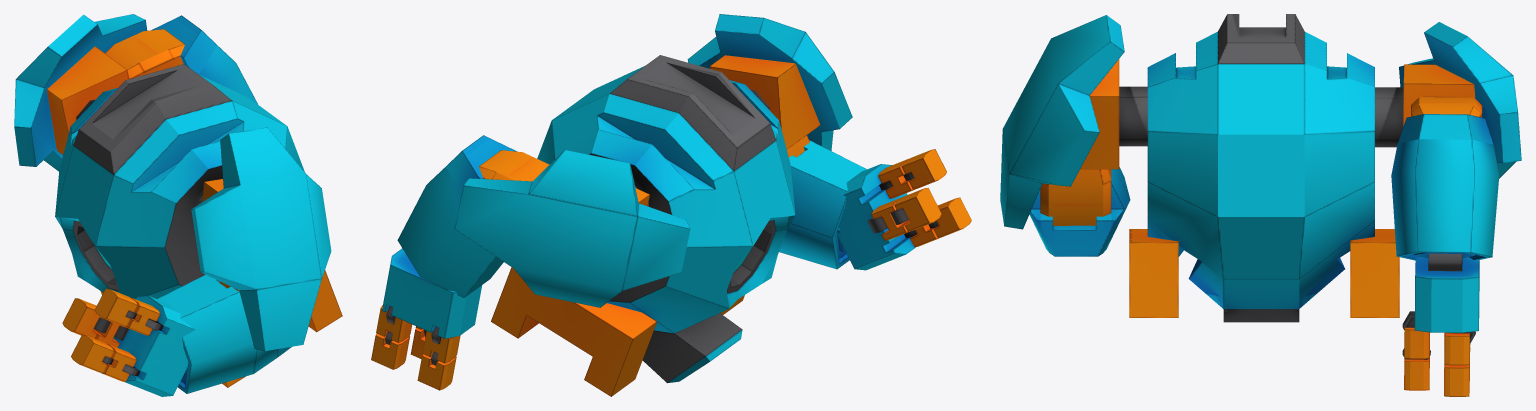
Rendered from Body_Running37.obj.
The picture shows the model from 3 angles, left to right: view 1: azimuth 30°, elevation 25°; view 2: azimuth 150°, elevation 25°; view 3: azimuth 270°, elevation 25°; orthographic projection. The views are drawn at different scales.
Visible parts, largest first — view 1: Plane001, Object006, Object002, Object008, Object007, Object003; view 2: Plane001, Object002, Object006, Object008, Object004, Object003, Object007; view 3: Plane001, Object006, Object003, Object002, Object004, Object007, Object005, Object001.
Boxes of the visible parts, x1,y1,x2,y2 form: Plane001: (55,64,342,387); Object006: (191,127,331,350); Object002: (14,14,184,171); Object008: (62,288,195,396); Object007: (157,274,291,393); Object003: (151,15,257,104); Plane001: (491,55,795,396); Object002: (454,149,690,307); Object006: (687,14,852,157); Object008: (837,149,971,270); Object004: (371,248,482,390); Object003: (397,135,516,297); Object007: (779,140,866,269); Plane001: (1129,14,1399,322); Object006: (1000,15,1124,229); Object003: (1391,114,1499,260); Object002: (1399,22,1521,178); Object004: (1402,253,1479,396); Object007: (1029,167,1130,256); Object005: (1119,86,1147,146); Object001: (1375,87,1403,147).
Size of the model in its own units: 165 by 118 by 182.
